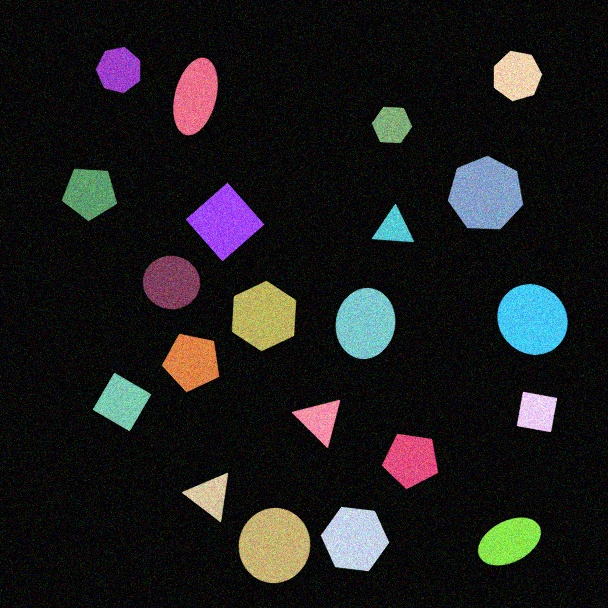Circulo: (238, 507, 311, 584), (497, 283, 568, 356), (142, 255, 201, 310)
Elipse: (335, 287, 396, 360), (172, 57, 219, 136), (477, 517, 542, 566)
Heptagono: (447, 155, 524, 230), (493, 50, 543, 102), (95, 46, 141, 94)
Hexagono: (231, 280, 297, 352), (320, 506, 390, 572), (371, 106, 413, 144)
Pentagono: (161, 333, 220, 393), (381, 433, 439, 490), (61, 168, 118, 222)
Quadrado: (185, 182, 265, 262), (92, 372, 152, 432), (516, 391, 558, 433)
Triangulo: (291, 399, 341, 449), (182, 472, 229, 523), (371, 204, 415, 243)
